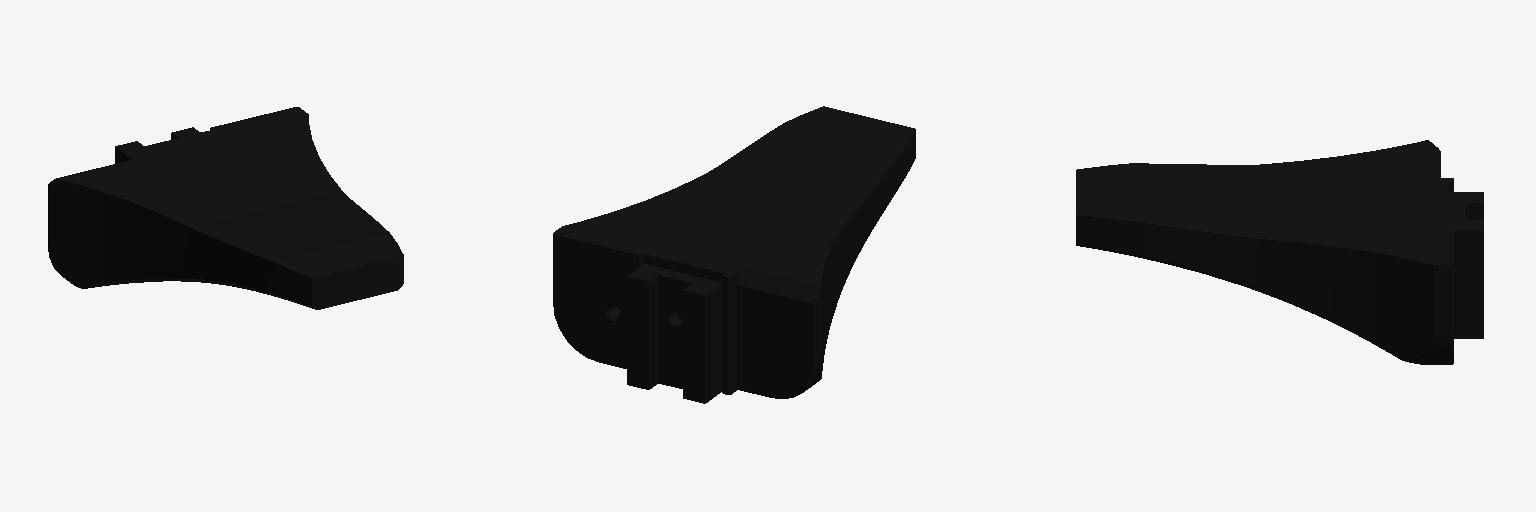
File: gripper.obj
3 views of the same model, side by side, from view 1: azimuth 30°, elevation 25°; view 2: azimuth 150°, elevation 25°; view 3: azimuth 270°, elevation 25° (orthographic).
Parts seen in each view (by area): view 1: link7; view 2: link7; view 3: link7.
Boxes of the visible parts, x1,y1,x2,y2 form: link7: [48, 107, 403, 309]; link7: [553, 106, 915, 403]; link7: [1076, 140, 1483, 364].
Bounding box in the file's own units: 0.056 × 0.0265 × 0.0765.